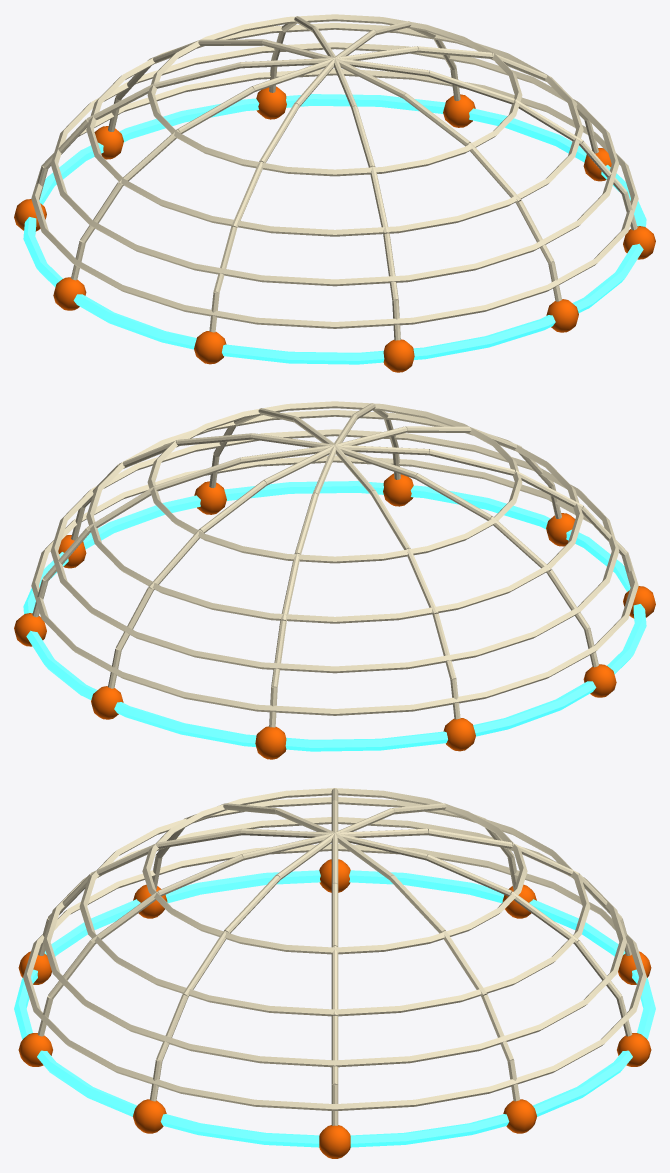
The model's file is heist_net.glb.
3 views of the same model, one above another, from view 1: azimuth 30°, elevation 25°; view 2: azimuth 150°, elevation 25°; view 3: azimuth 270°, elevation 25° (orthographic). The views are drawn at different scales.
Visible parts, largest first — view 1: HeistNet_body; view 2: HeistNet_body; view 3: HeistNet_body.
Boxes of the visible parts, x1,y1,x2,y2 form: HeistNet_body: (14,14,655,372); HeistNet_body: (14,401,655,759); HeistNet_body: (14,788,655,1158).
Bounding box in the file's own units: 3.05 × 0.9759 × 2.96.
